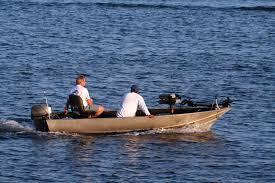fishing boat: (30, 73, 236, 138)
